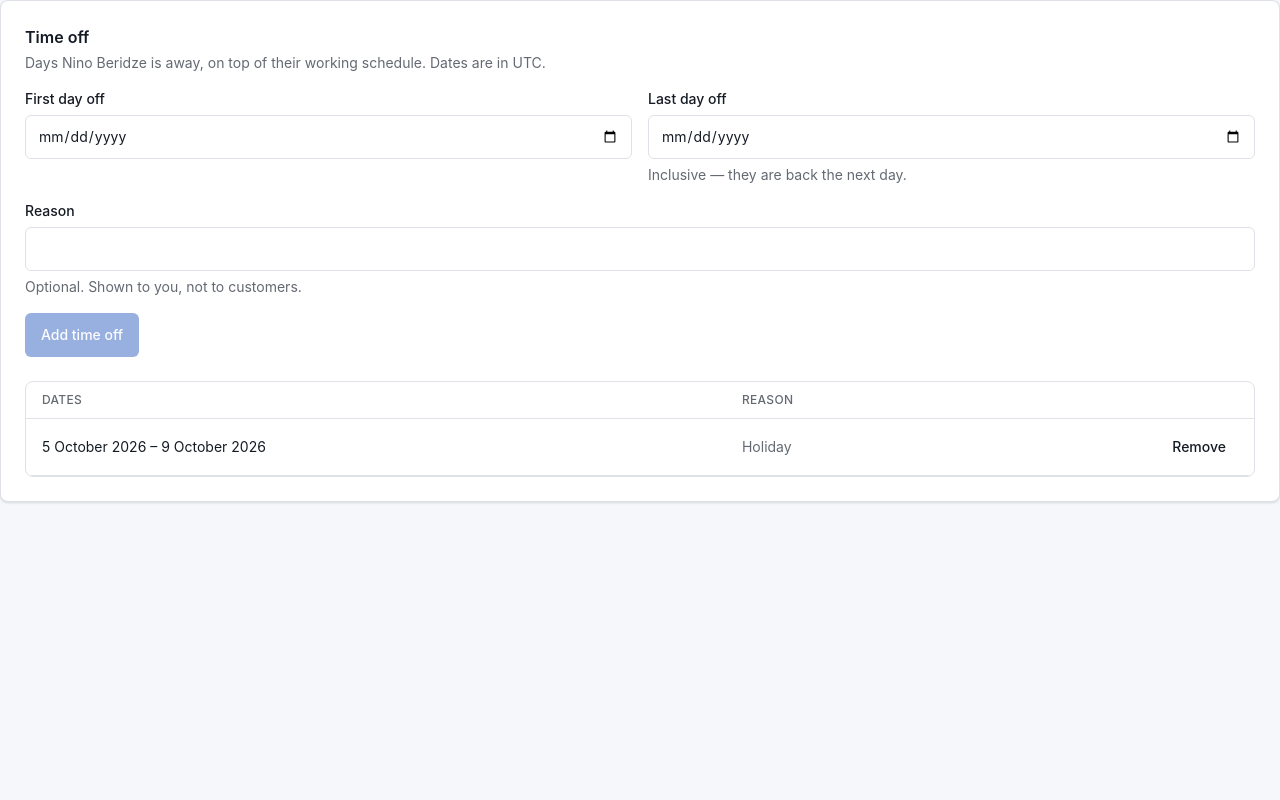
Test: TimeOffSection, when a write is refused › toasts the server sentence when a removal is refused
The width and height of the screenshot is (1280, 800).
Click the button "Remove". click: (1199, 447)
box: [1160,431,1238,463]
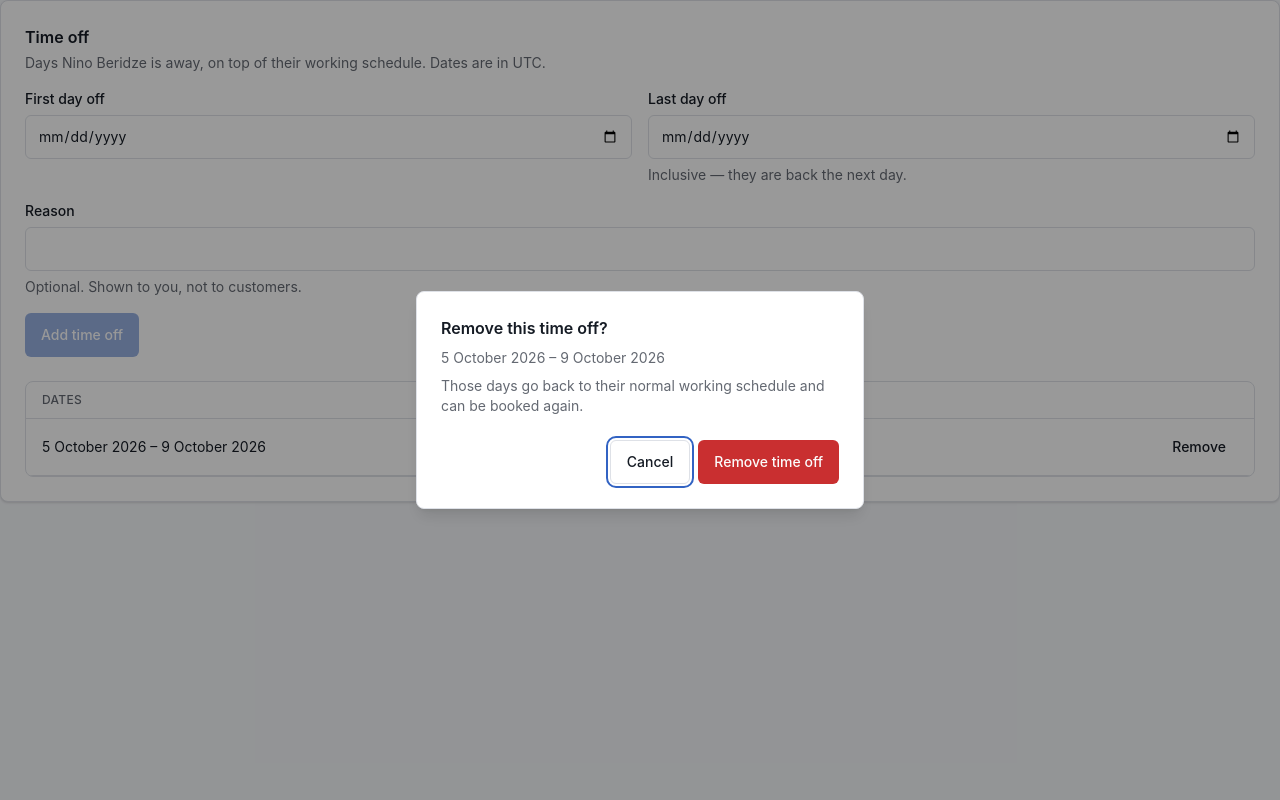
Click the button "Remove time off". click: (769, 462)
box: [698,440,839,484]
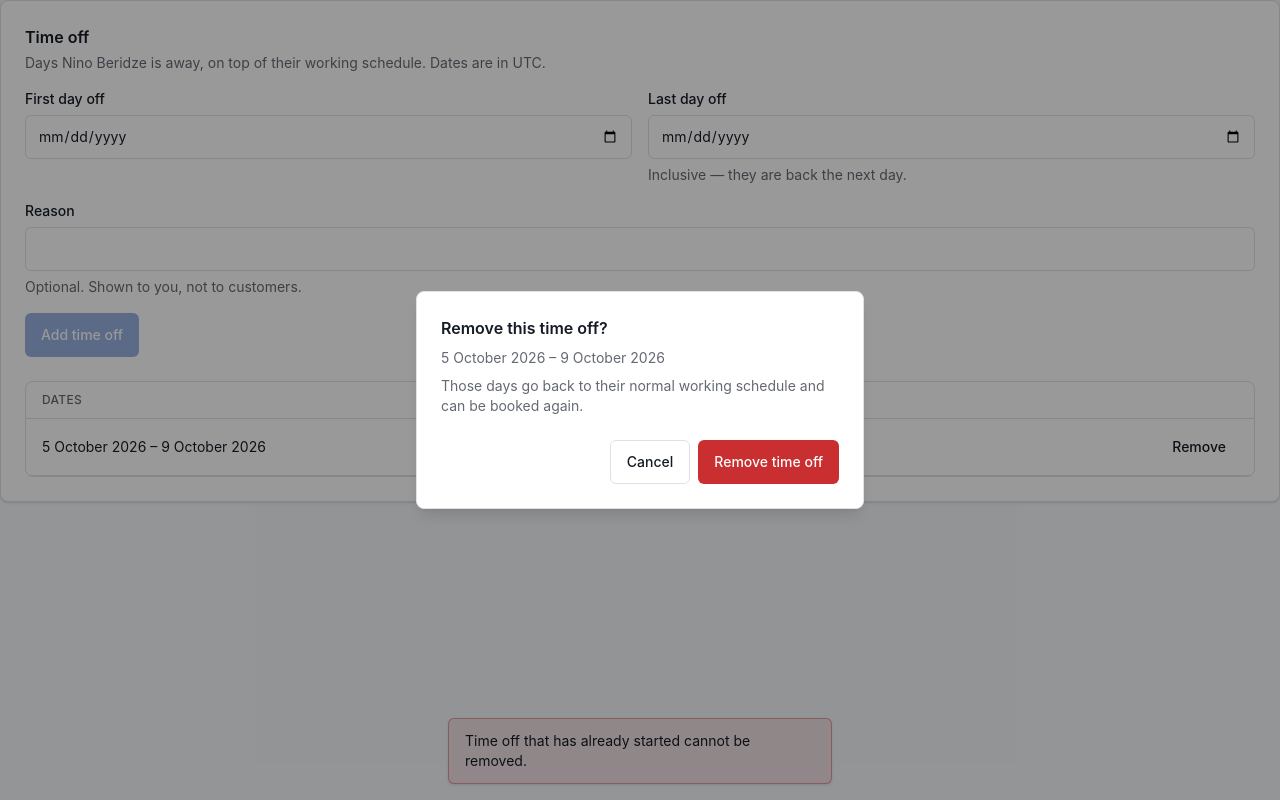
Check: the text "Time off that has already started cannot be removed." is shown, box [448,718,832,784]
